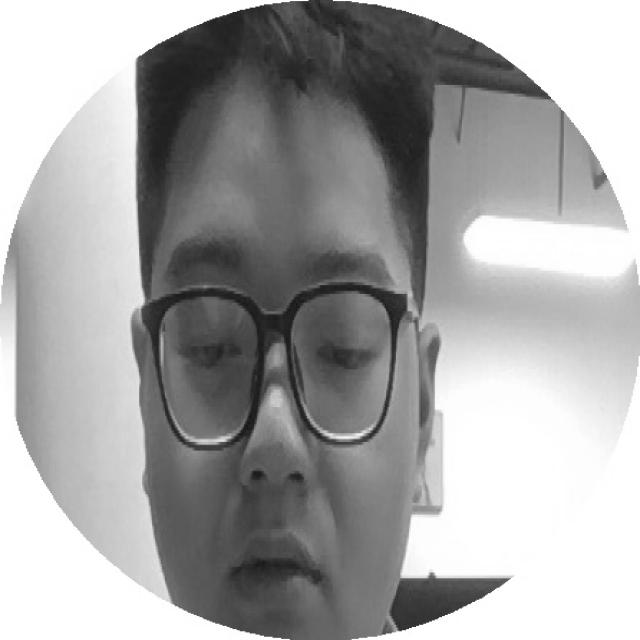real: (145, 70, 420, 630), (144, 287, 407, 388)
